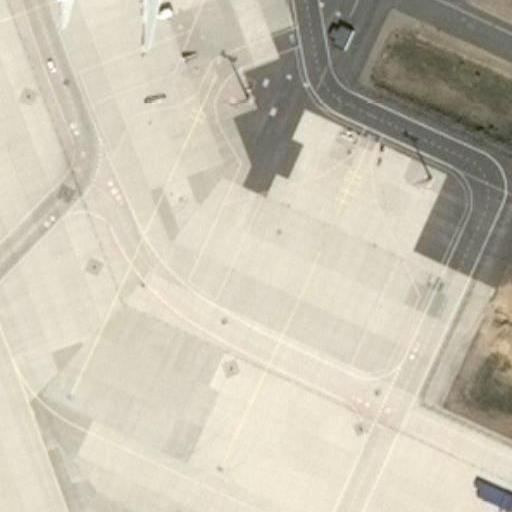Aircraft: (29, 0, 246, 32)
